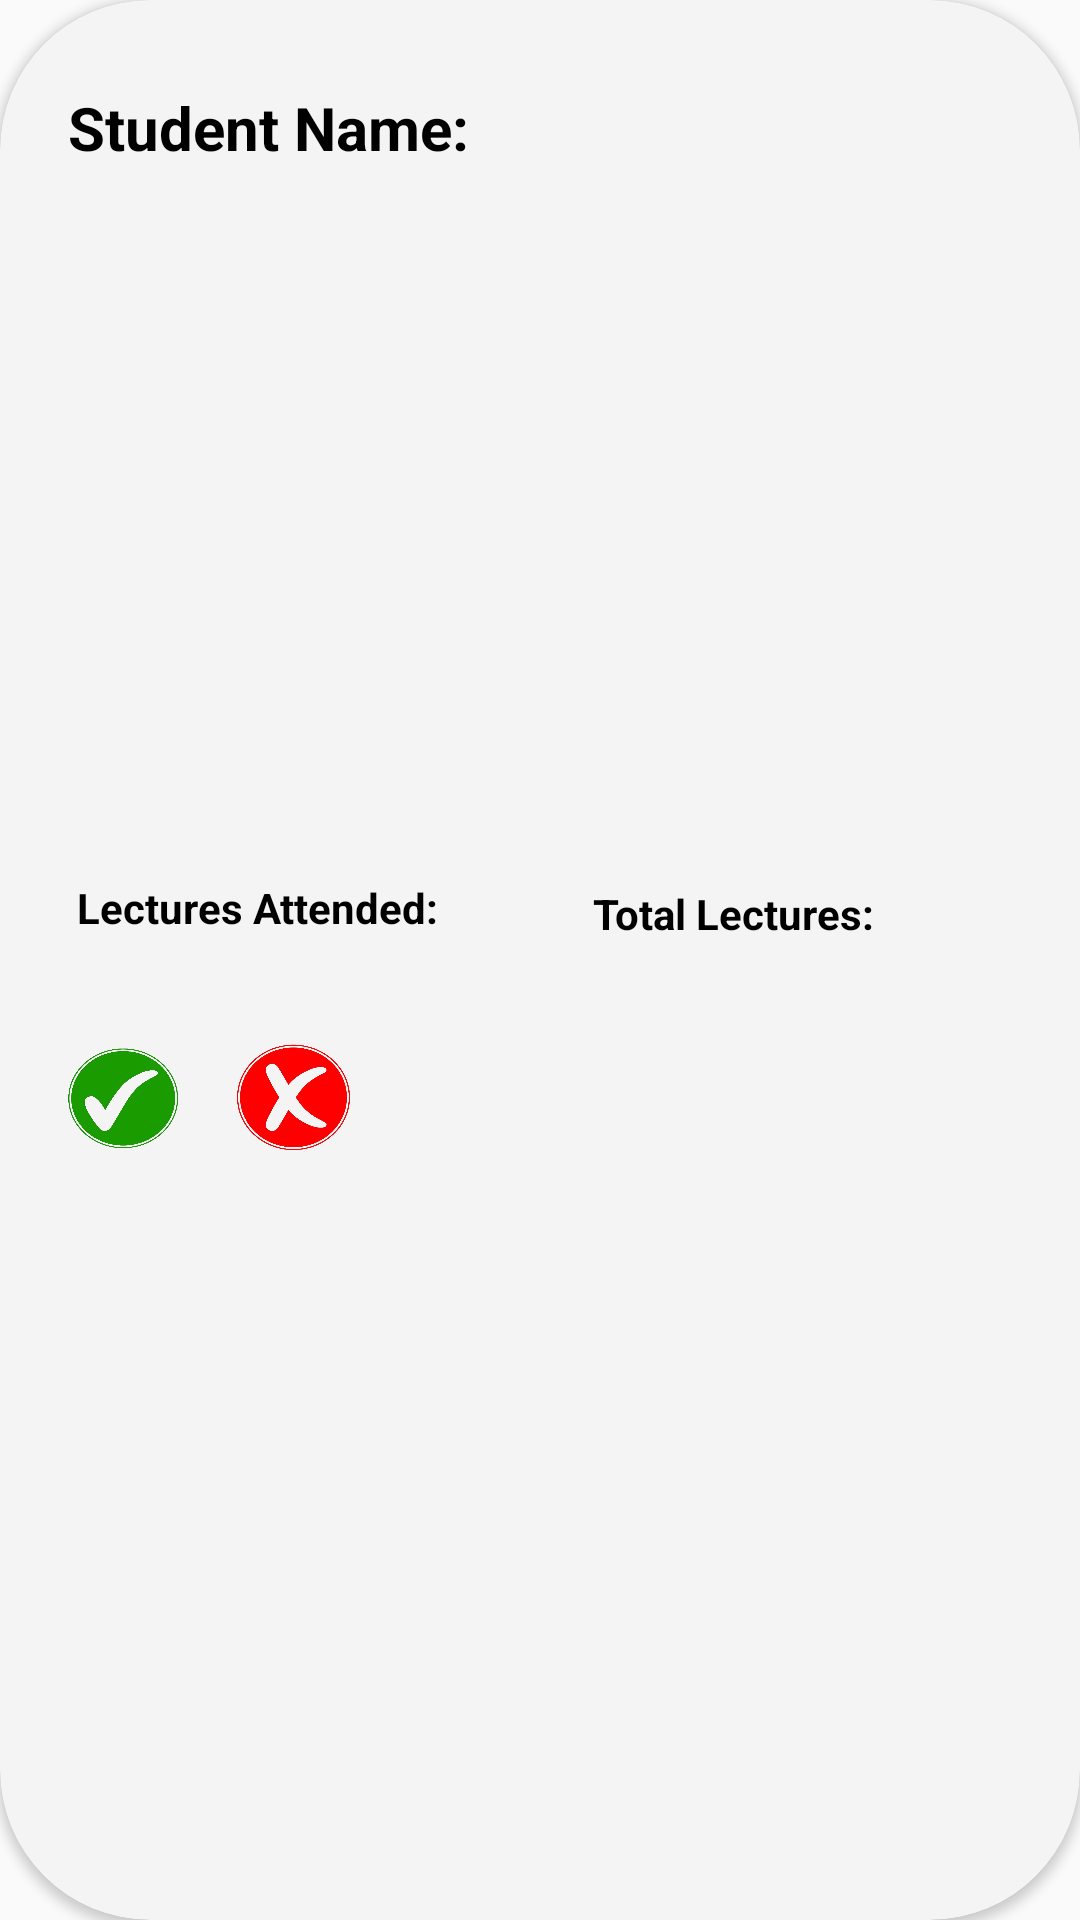

Named icons in this screenshot (1080×1920) and their bounding boxes, bbox(x1, y1, x2, y2):
cross: bbox(237, 1044, 350, 1150)
tick: bbox(68, 1048, 178, 1148)
